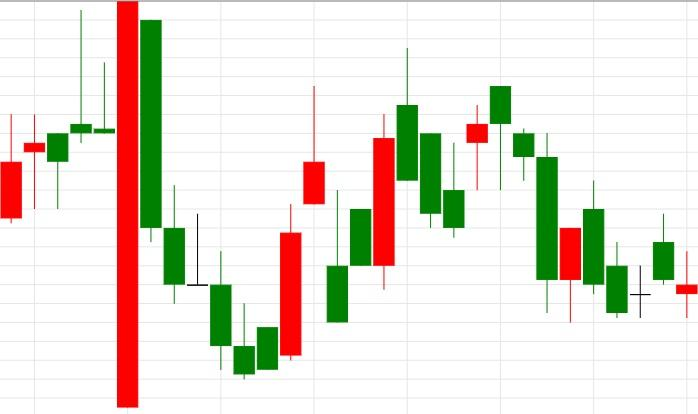shooting_star_fall: (232, 85, 326, 380)
three_black_crows_fall: (442, 85, 559, 314)
